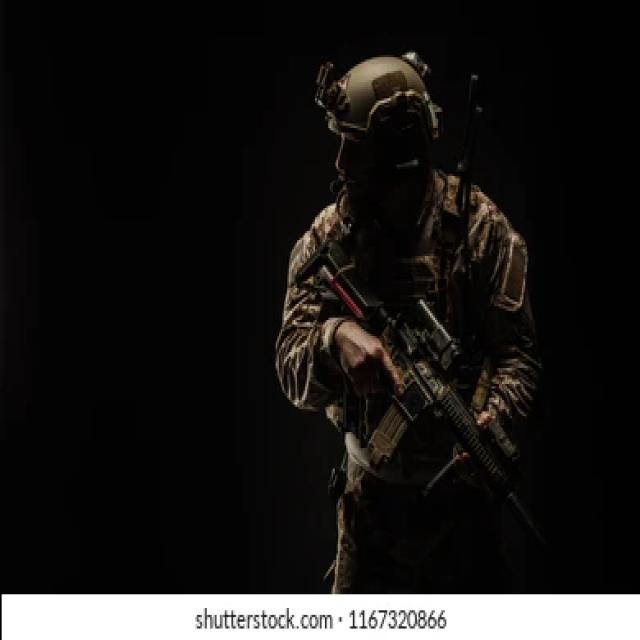soldier: (276, 53, 558, 593)
